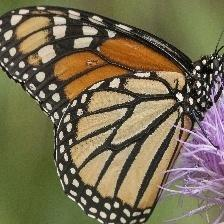butterfly: (0, 6, 224, 224)
